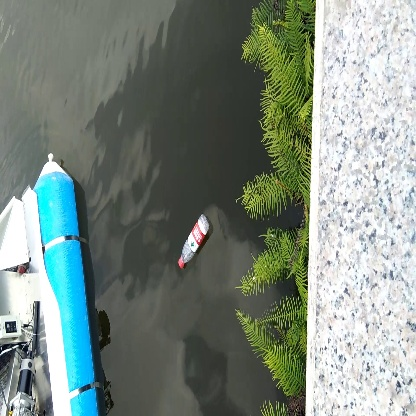bottle: (175, 213, 214, 272)
